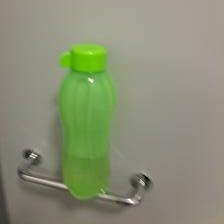bottle: (58, 42, 113, 203)
